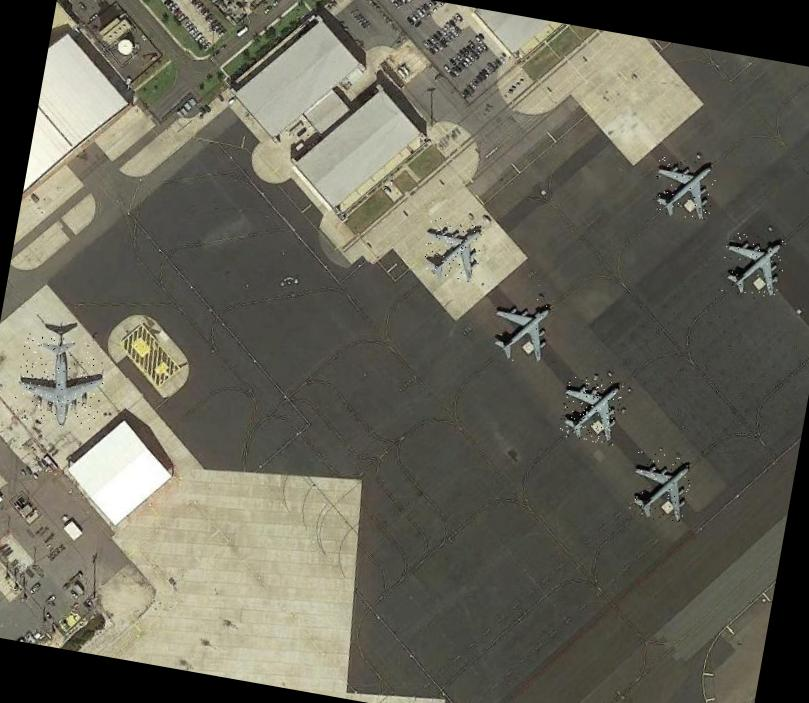A14: (625, 449, 695, 524), (718, 228, 788, 302), (486, 292, 555, 366), (557, 372, 623, 444), (649, 154, 717, 222), (420, 215, 484, 283)
A3: (10, 331, 109, 432)
